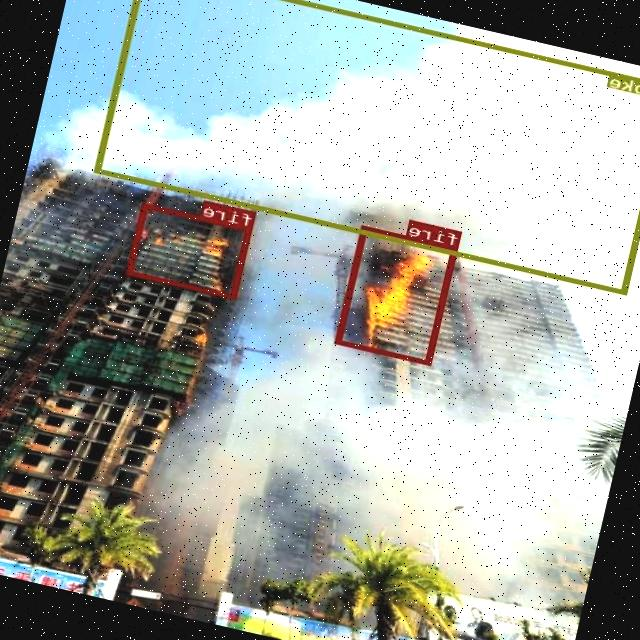fire: (335, 224, 459, 364), (126, 202, 254, 299)
smoke: (95, 0, 640, 294)
